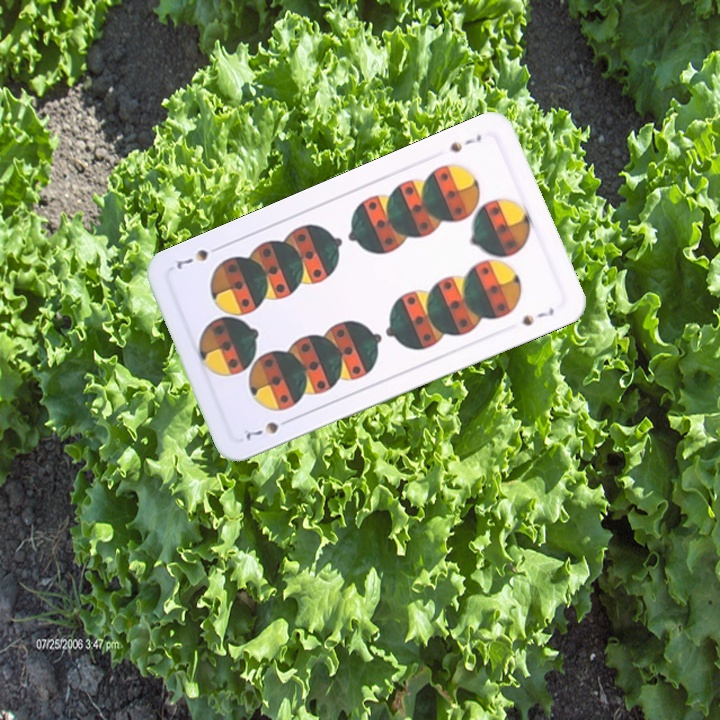S7: (241, 414, 295, 442), (446, 130, 484, 155)
